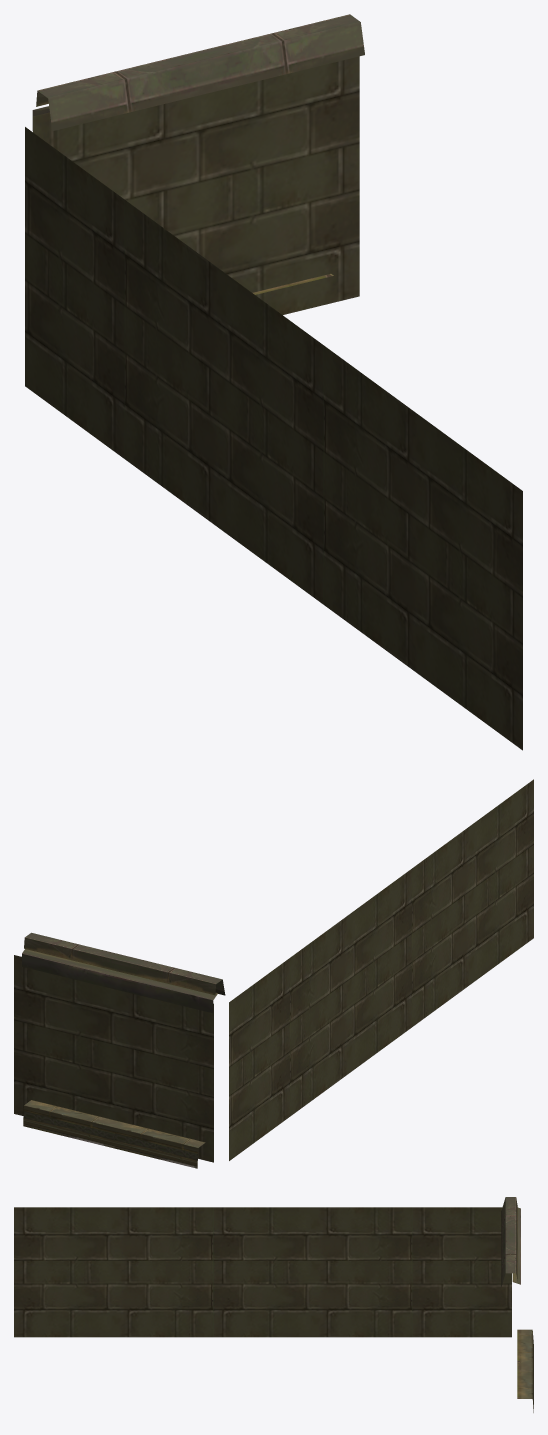
File: Yx_qiang01.FBX
3 views of the same model, one above another, from view 1: azimuth 30°, elevation 25°; view 2: azimuth 150°, elevation 25°; view 3: azimuth 270°, elevation 25° (orthographic). The views are drawn at different scales.
Parts seen in each view (by area): view 1: Yx_qiang01_004, Yx_qiang01_003, Yx_qiang01_001; view 2: Yx_qiang01_004, Yx_qiang01_003, Yx_qiang01_001, Yx_qiang01_002; view 3: Yx_qiang01_004, Yx_qiang01_001, Yx_qiang01_002.
Part boxes in pixels (bbox=[...]): Yx_qiang01_004: bbox=[25, 127, 522, 750]; Yx_qiang01_003: bbox=[33, 56, 359, 314]; Yx_qiang01_001: bbox=[32, 14, 364, 131]; Yx_qiang01_004: bbox=[229, 779, 533, 1160]; Yx_qiang01_003: bbox=[14, 955, 213, 1162]; Yx_qiang01_001: bbox=[22, 932, 225, 1013]; Yx_qiang01_002: bbox=[23, 1100, 205, 1168]; Yx_qiang01_004: bbox=[14, 1207, 511, 1337]; Yx_qiang01_001: bbox=[501, 1197, 520, 1286]; Yx_qiang01_002: bbox=[517, 1329, 533, 1412].
Bounding box in the file's own units: 820 × 666 × 2154.
